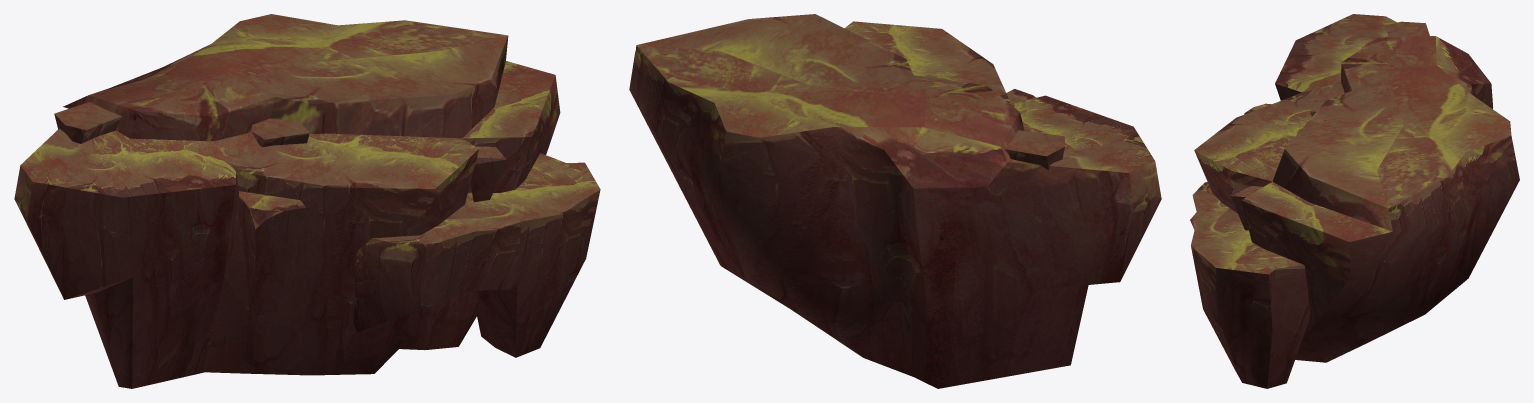
Rendered from yw_yiwangfeixu_fengbianshi01.FBX.
3 renders of one model, left to right at view 1: azimuth 30°, elevation 25°; view 2: azimuth 150°, elevation 25°; view 3: azimuth 270°, elevation 25°, orthographic. The views are drawn at different scales.
Parts seen in each view (by area): view 1: yw_yiwangfeixu_fengbianshi01; view 2: yw_yiwangfeixu_fengbianshi01; view 3: yw_yiwangfeixu_fengbianshi01.
Part boxes in pixels (left/top/right/bottom): yw_yiwangfeixu_fengbianshi01: left=14, top=14, right=600, bottom=388; yw_yiwangfeixu_fengbianshi01: left=629, top=14, right=1161, bottom=388; yw_yiwangfeixu_fengbianshi01: left=1190, top=14, right=1519, bottom=388.
Size of the model in its own units: 655 by 307 by 420.
